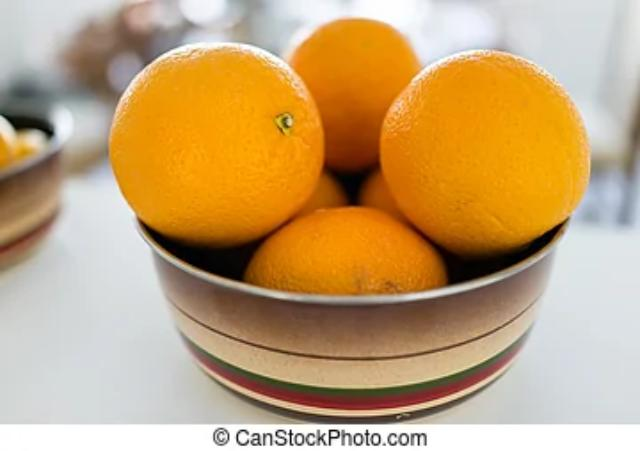Oranges: (110, 42, 324, 244), (382, 49, 590, 251), (246, 208, 444, 292)
